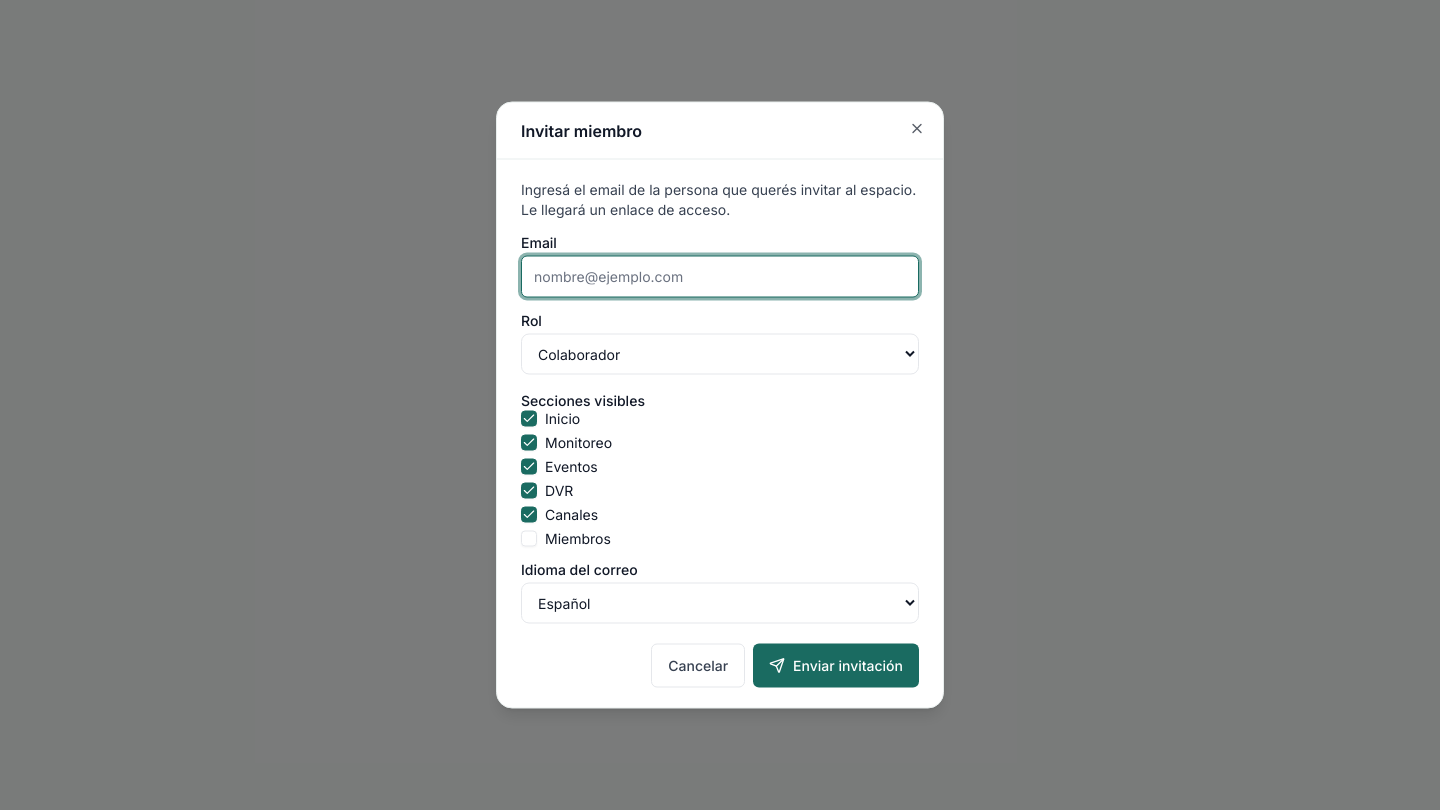
Test case: InviteModal › resets the menu for a guest and sends the chosen cameras
Later steps or results of the test are not shown.
Select "Invitado" in the dropdown labelled "Rol" at (720, 354), box top-left (521, 334), bottom-right (919, 374)
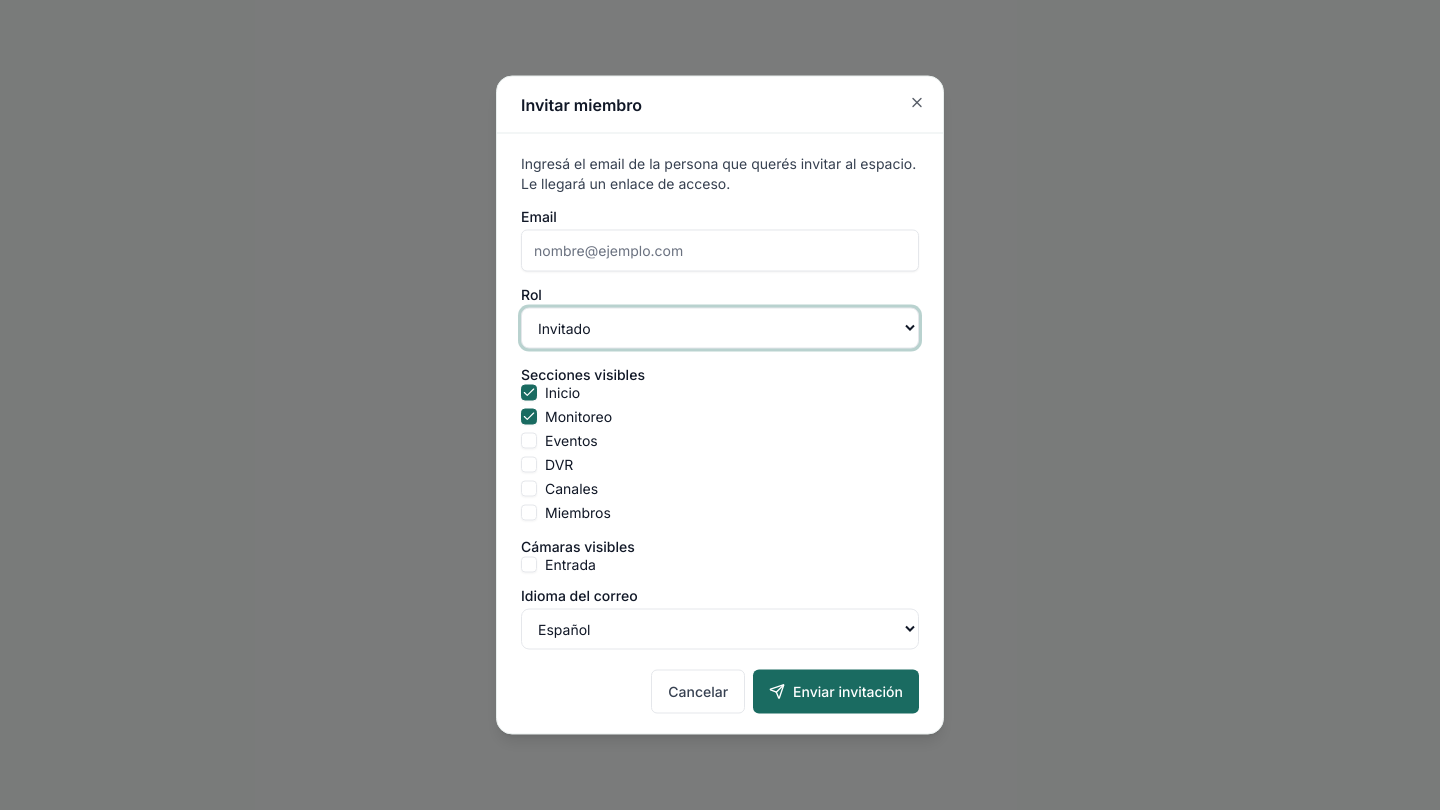
expect the checkbox named "Inicio" next to "Inicio" is checked: met, box top-left (521, 384), bottom-right (537, 400)
expect the checkbox named "Eventos" next to "Eventos" is not checked: met, box top-left (521, 432), bottom-right (537, 448)
